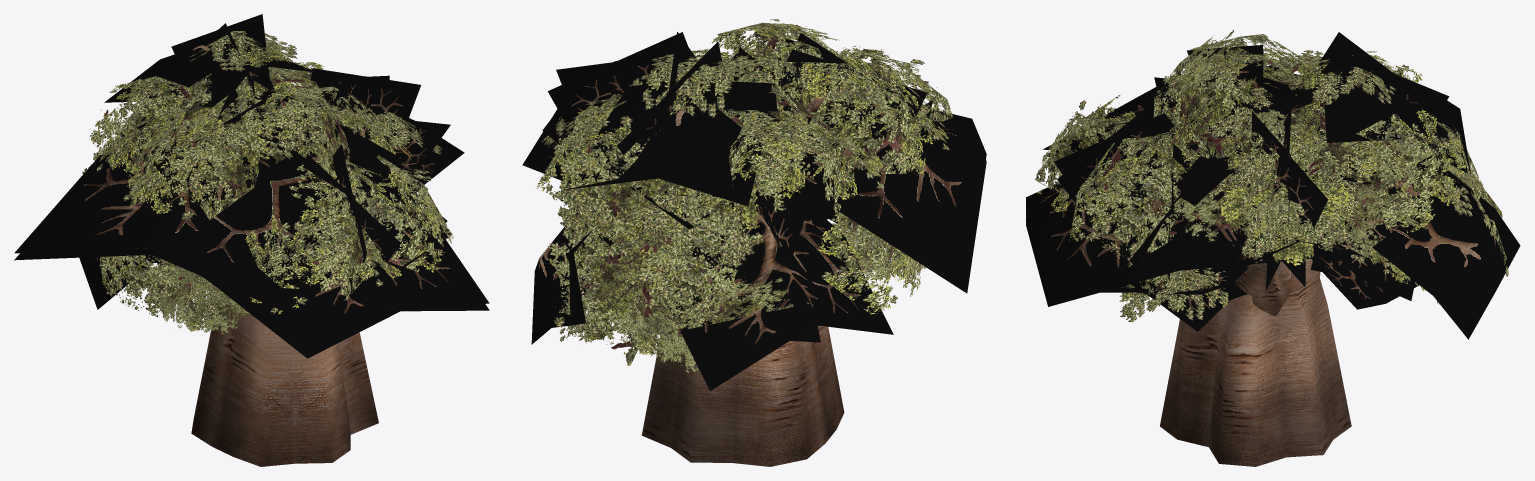
Rendered from baobab_new.glb.
3 views of the same model, side by side, from view 1: azimuth 30°, elevation 25°; view 2: azimuth 150°, elevation 25°; view 3: azimuth 270°, elevation 25° (orthographic). The views are drawn at different scales.
Visible parts, largest first — view 1: baobab_new; view 2: baobab_new; view 3: baobab_new.
Part boxes in pixels (bbox=[...]): baobab_new: bbox=[14, 14, 489, 466]; baobab_new: bbox=[522, 19, 986, 466]; baobab_new: bbox=[1026, 30, 1520, 466].
Size of the model in its own units: 15.02 by 13.26 by 15.75.
Materials: 3 (3 with a texture image).
